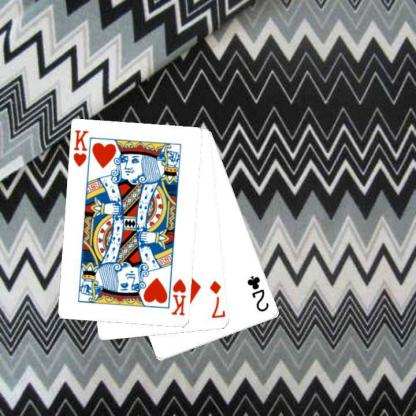2C: (244, 273, 270, 313)
7D: (207, 278, 225, 320)
KH: (169, 276, 188, 316), (71, 128, 90, 168)
